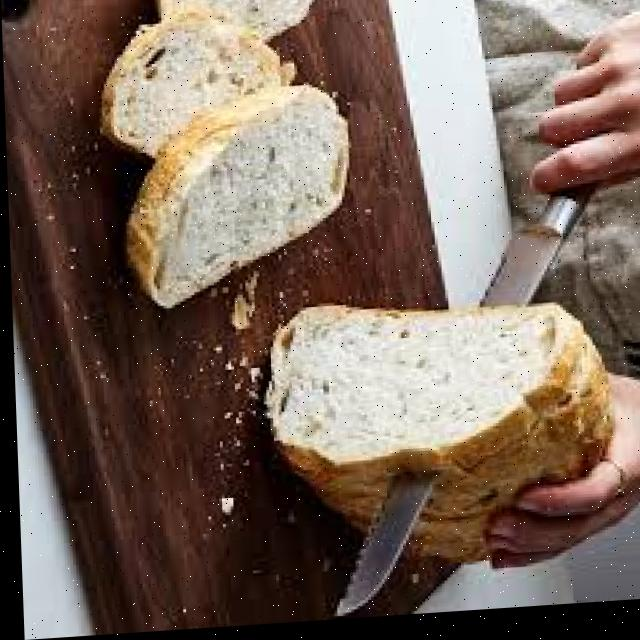Bread: (124, 89, 345, 311), (263, 312, 573, 468), (101, 13, 277, 158)
